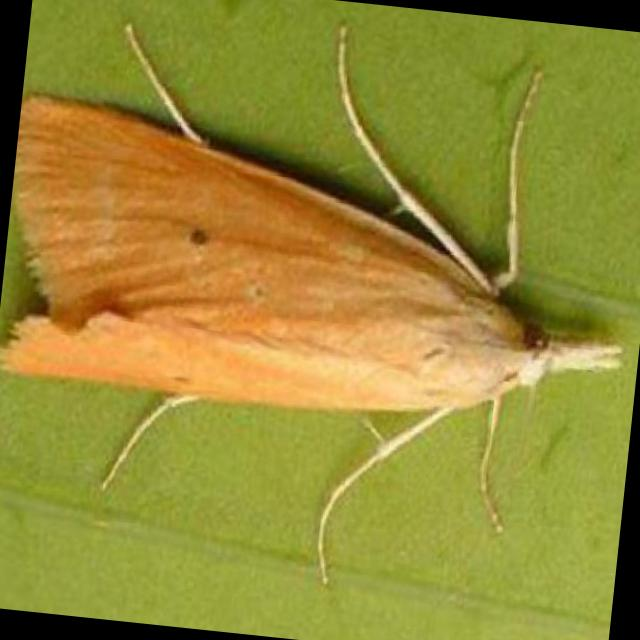stem-borer: (0, 82, 640, 528)
